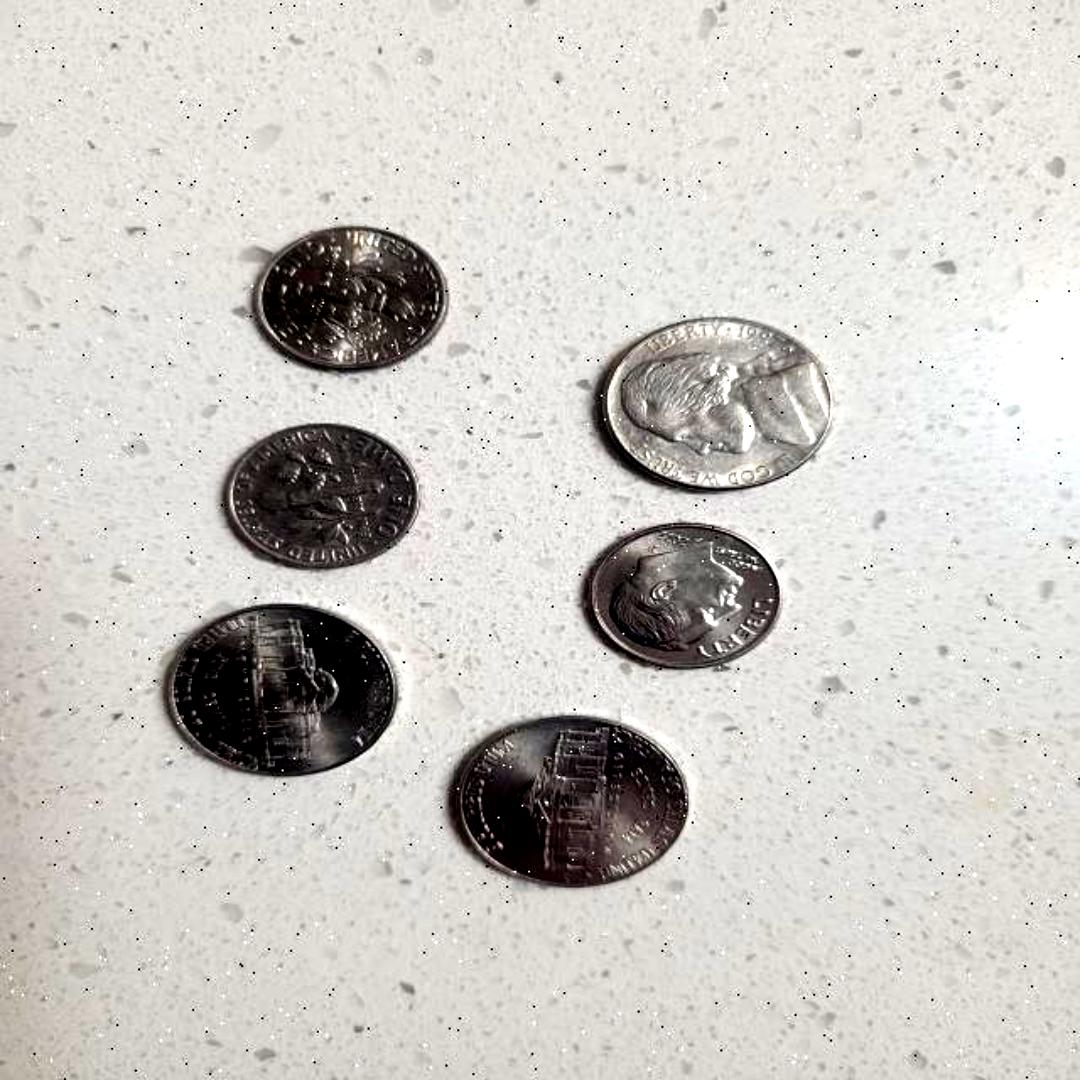Dime: (211, 416, 423, 579), (572, 516, 784, 678), (245, 220, 455, 378)
Nickel: (442, 701, 698, 895), (593, 310, 839, 502), (160, 594, 408, 780)
